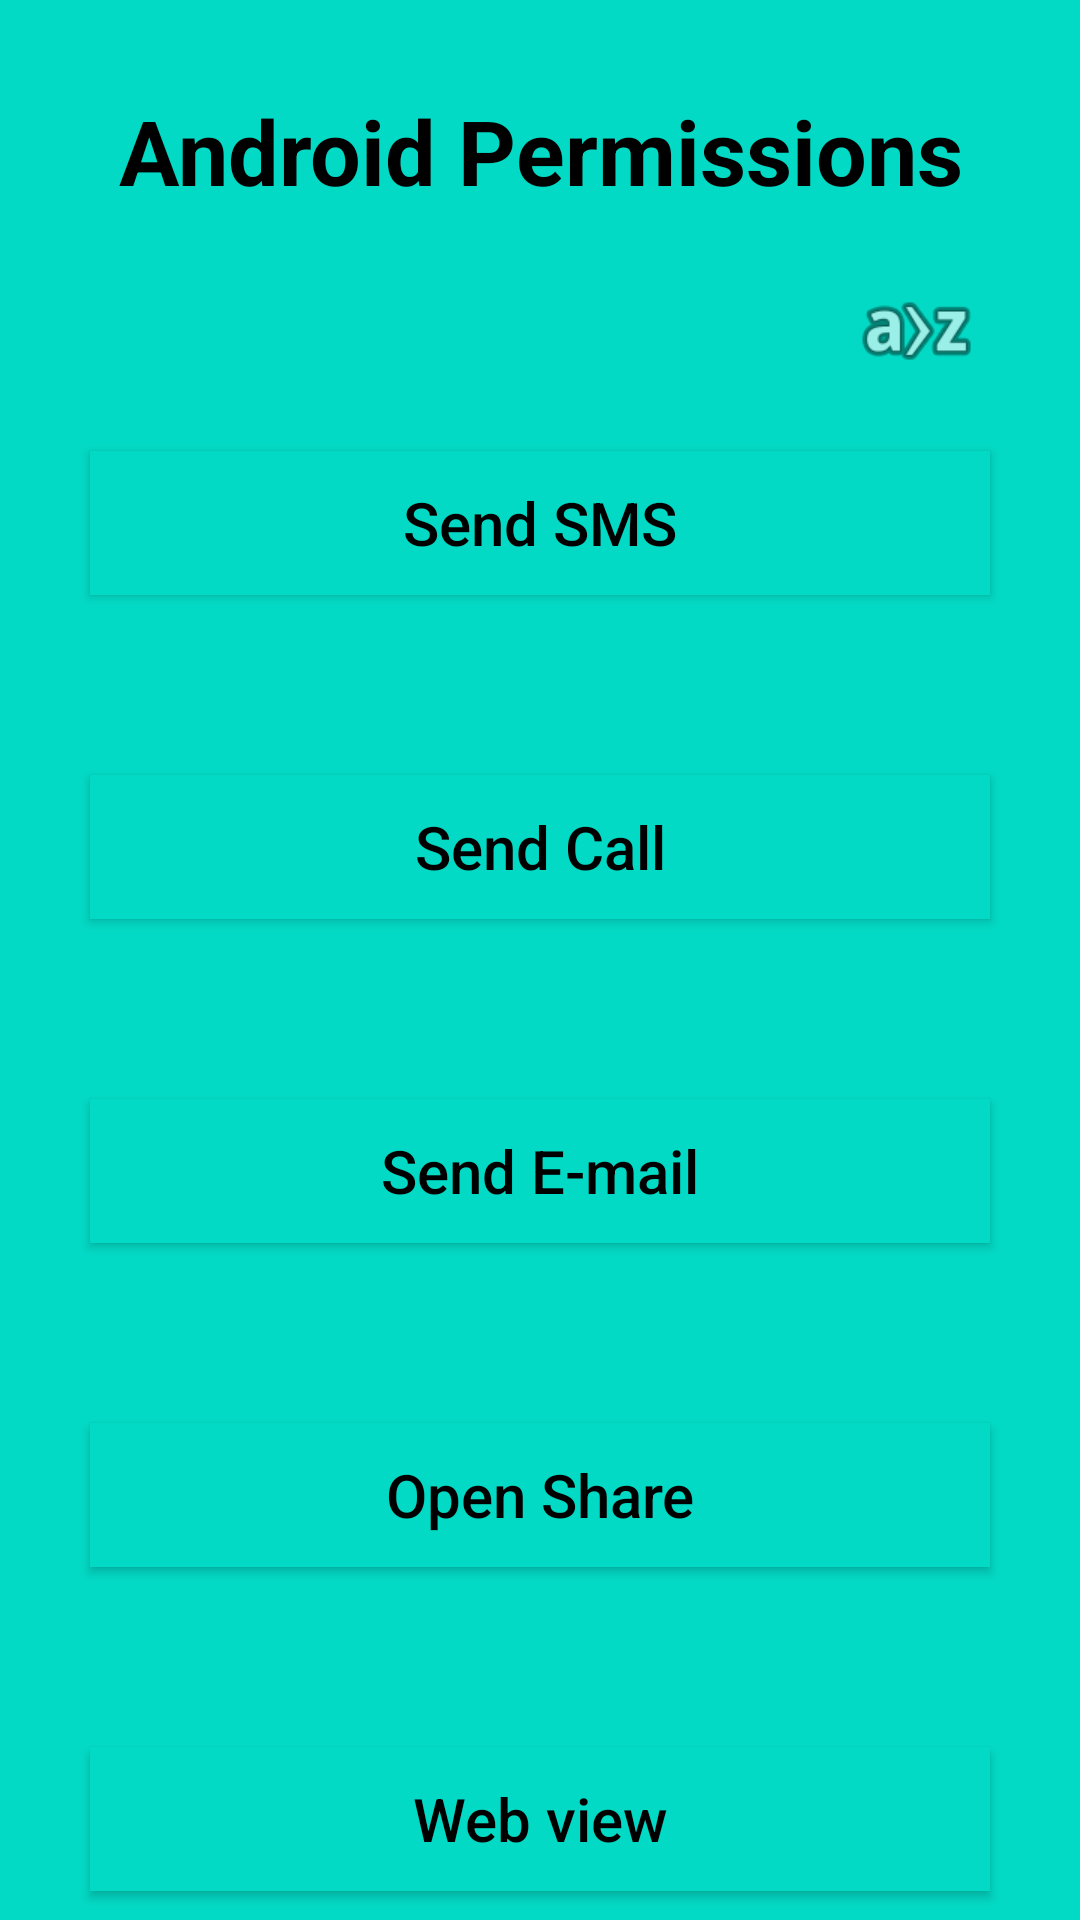

Named icons in this screenshot (1080x1920) and their centers, (x=x, y=y):
sort alphabetically: (x=916, y=331)
